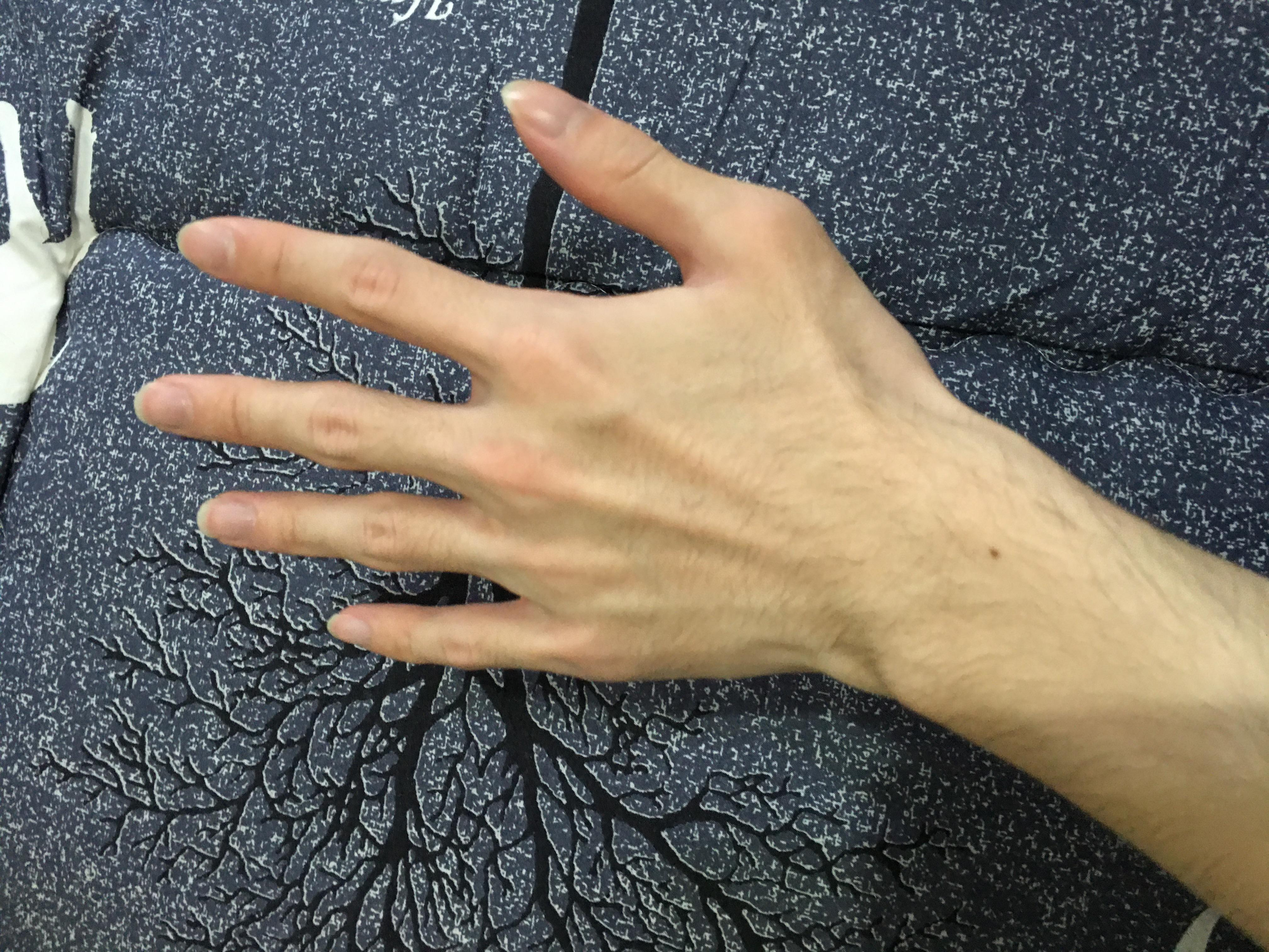palm: (345, 95, 1174, 696)
